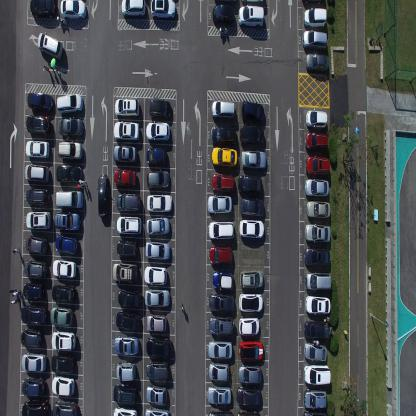car: (36, 30, 63, 60), (238, 4, 264, 30), (56, 92, 84, 116), (112, 259, 138, 284), (113, 119, 140, 142), (304, 270, 332, 292), (303, 364, 331, 386), (115, 308, 140, 332), (305, 293, 331, 316), (144, 238, 171, 260), (145, 336, 172, 358), (20, 304, 47, 326), (208, 314, 235, 336), (52, 256, 76, 280), (238, 338, 263, 361), (211, 99, 236, 122), (302, 28, 327, 51), (304, 222, 330, 244), (304, 246, 330, 268), (238, 218, 264, 240), (116, 214, 142, 236), (211, 146, 237, 168), (114, 97, 140, 119), (25, 114, 51, 136), (210, 124, 237, 145), (27, 92, 54, 113), (56, 189, 84, 209), (143, 263, 167, 286), (54, 233, 78, 256), (241, 150, 266, 172), (236, 386, 261, 408), (145, 214, 170, 236), (50, 352, 75, 374), (25, 186, 50, 208), (24, 234, 49, 256), (237, 174, 262, 196), (145, 120, 170, 142), (116, 191, 141, 213), (238, 291, 264, 312), (116, 287, 142, 308), (57, 139, 83, 160), (143, 286, 170, 306), (97, 172, 109, 217), (25, 210, 52, 230), (208, 220, 235, 240), (303, 320, 331, 339), (304, 386, 327, 409), (305, 130, 328, 153), (304, 342, 328, 364), (146, 168, 170, 190), (112, 382, 136, 404), (24, 258, 48, 280), (240, 124, 264, 146), (25, 138, 49, 160), (306, 155, 330, 177), (207, 193, 232, 214), (24, 163, 49, 184), (55, 210, 80, 231), (206, 385, 232, 405), (112, 334, 138, 354), (21, 352, 47, 372), (146, 192, 172, 212), (58, 117, 84, 137), (56, 164, 82, 184), (60, 0, 86, 20), (207, 361, 230, 383), (116, 237, 139, 259), (241, 100, 264, 122), (149, 97, 171, 120), (113, 167, 136, 189), (306, 52, 329, 74), (240, 197, 264, 218), (114, 144, 138, 165), (49, 305, 73, 326), (21, 397, 49, 415), (303, 7, 327, 28), (237, 364, 262, 384), (145, 360, 170, 380), (239, 269, 264, 289), (209, 293, 234, 313), (207, 340, 232, 360), (208, 246, 233, 266), (50, 330, 76, 349), (29, 0, 55, 19), (120, 0, 146, 19), (150, 0, 176, 19), (212, 269, 234, 291), (146, 145, 168, 167), (51, 375, 74, 396), (212, 4, 235, 25), (305, 177, 329, 197), (306, 199, 331, 218), (114, 361, 136, 382), (20, 327, 42, 348), (146, 383, 167, 405), (22, 376, 45, 396), (211, 173, 235, 192), (238, 316, 260, 336), (306, 108, 328, 128), (51, 283, 74, 302), (146, 312, 167, 332), (52, 400, 77, 416), (22, 282, 45, 299), (144, 405, 170, 415), (112, 405, 136, 415), (237, 408, 261, 416), (208, 408, 232, 415), (302, 409, 328, 415), (302, 0, 324, 6), (240, 0, 265, 5)
